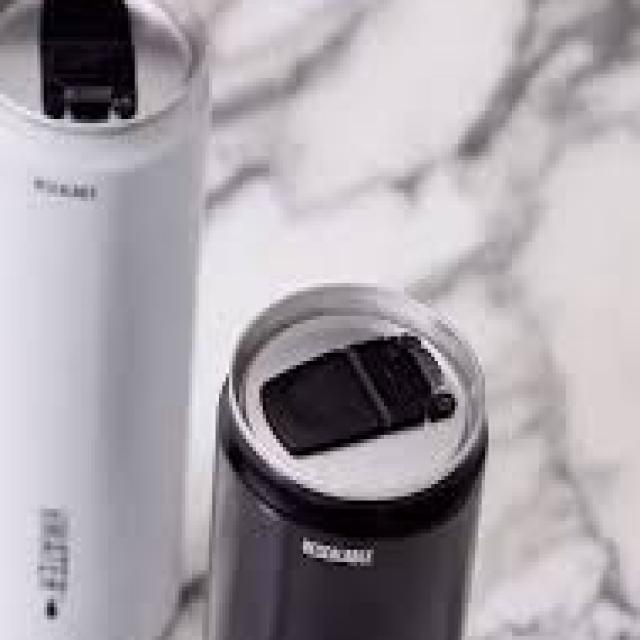organic: (0, 7, 219, 622), (207, 272, 509, 627)
